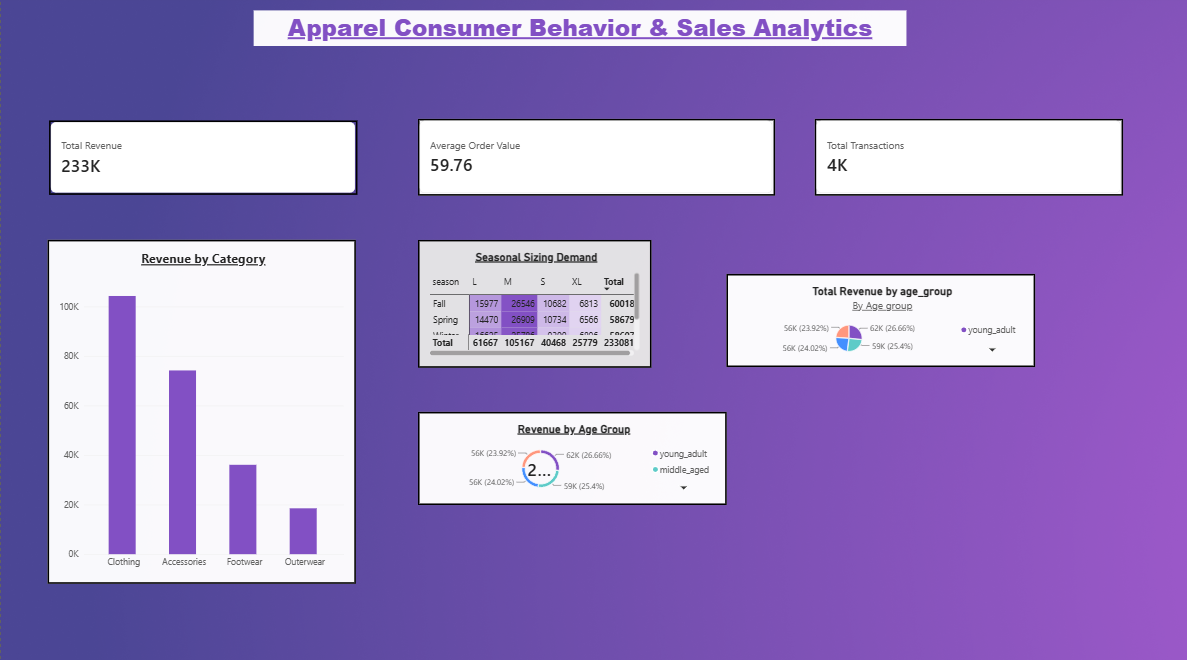

The page's visual inventory and layout, read from the dashboard file:
{"tool":"powerbi","page":{"name":"Page 1","canvas":[1920,1080],"ordinal":0},"visuals":[{"type":"cardVisual","fields":{"Data":["cleaned_data1.Total Revenue"]},"box":[77.5,197.5,497.5,120],"z":0},{"type":"cardVisual","fields":{"Data":["cleaned_data1.Average Order Value"]},"box":[671.8,195.5,575.9,123.6],"z":1000},{"type":"cardVisual","fields":{"Data":["cleaned_data1.Total Transactions"]},"box":[1312.5,195,497.5,123.6],"z":2000},{"type":"clusteredColumnChart","title":"Revenue by Category","fields":{"Category":["cleaned_data1.category"],"Y":["cleaned_data1.Total Revenue"]},"box":[75,390,497.5,554.8],"z":3000},{"type":"pivotTable","title":"Seasonal Sizing Demand","fields":{"Columns":["cleaned_data1.size"],"Rows":["cleaned_data1.season"],"Values":["cleaned_data1.Total Revenue"]},"box":[671.8,391,376.7,206.7],"z":4000},{"type":"donutChart","title":"Revenue by Age Group","fields":{"Category":["cleaned_data1.age_group"],"Y":["cleaned_data1.Total Revenue"]},"box":[671.8,666.8,498,150],"z":5000},{"type":"textbox","box":[408.6,20.1,1052.8,57.7],"z":6000},{"type":"pieChart","fields":{"Category":["cleaned_data1.age_group"],"Y":["cleaned_data1.Total Revenue"]},"box":[1170.6,446.2,498,150],"z":6001}]}

Visuals, with their boxes in screenshot pixels (x1, y1, x2, y2), scaled from the page's 1920x1080 canvas onto the 1187x660 screenshot:
cardVisual - cleaned_data1.Total Revenue: locate(48, 121, 355, 194)
cardVisual - cleaned_data1.Average Order Value: locate(415, 119, 771, 195)
cardVisual - cleaned_data1.Total Transactions: locate(811, 119, 1119, 195)
"Revenue by Category" clusteredColumnChart: locate(46, 238, 354, 577)
"Seasonal Sizing Demand" pivotTable: locate(415, 239, 648, 365)
"Revenue by Age Group" donutChart: locate(415, 407, 723, 499)
textbox: locate(253, 12, 903, 48)
pieChart - cleaned_data1.age_group x cleaned_data1.Total Revenue: locate(724, 273, 1032, 364)
